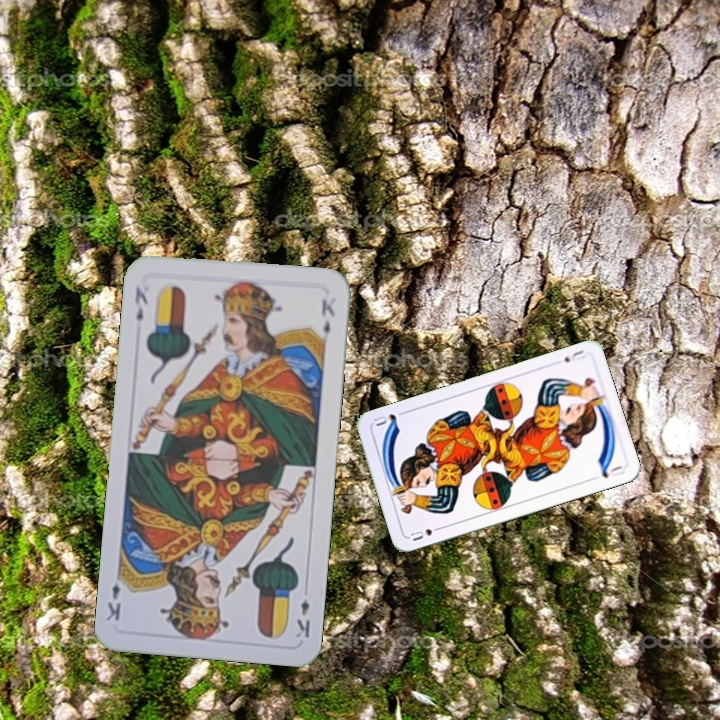EK: (292, 595, 313, 641), (131, 283, 151, 324)
SU: (406, 522, 446, 544), (560, 346, 588, 365)
